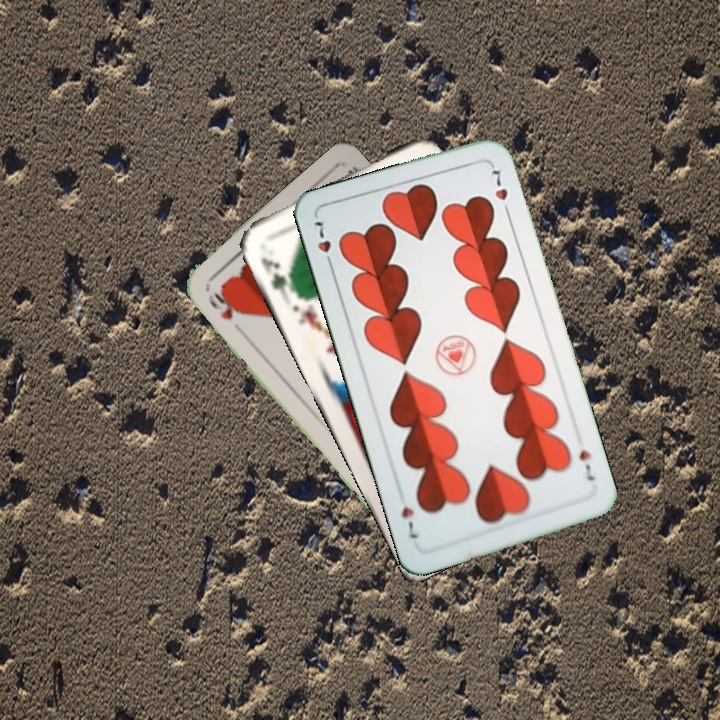GK: (256, 252, 295, 297)
H7: (310, 216, 337, 272), (575, 446, 597, 484)
HO: (204, 286, 245, 323)
